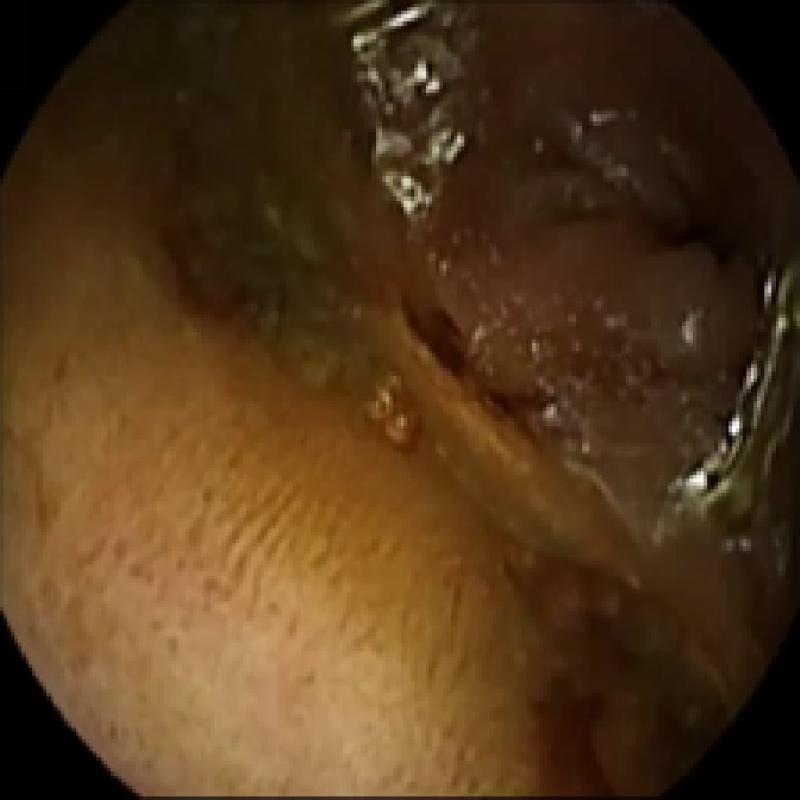bleeding: (411, 307, 546, 418), (526, 657, 630, 794)
